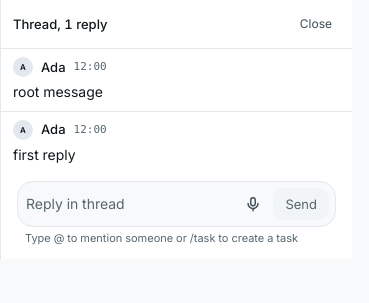
Test case: ThreadPanel › keeps a reply that failed to send
Expected: the text "first reply" is shown, [13,146,76,163]
Type "lost words" into the text box labelled "Reply" at point(130, 204), box [26,188,233,220]
Then press Enter
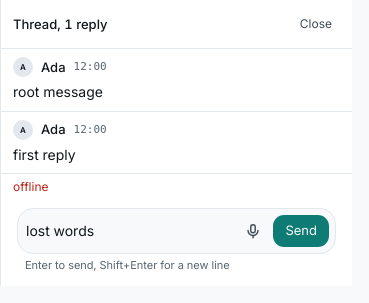
Result: the message reads "offline" at [13,179,48,194]
Result: the text box named "Reply" holds "lost words" at [26,215,233,247]
